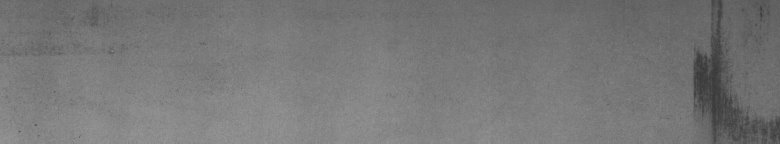ka: (688, 4, 775, 136)
